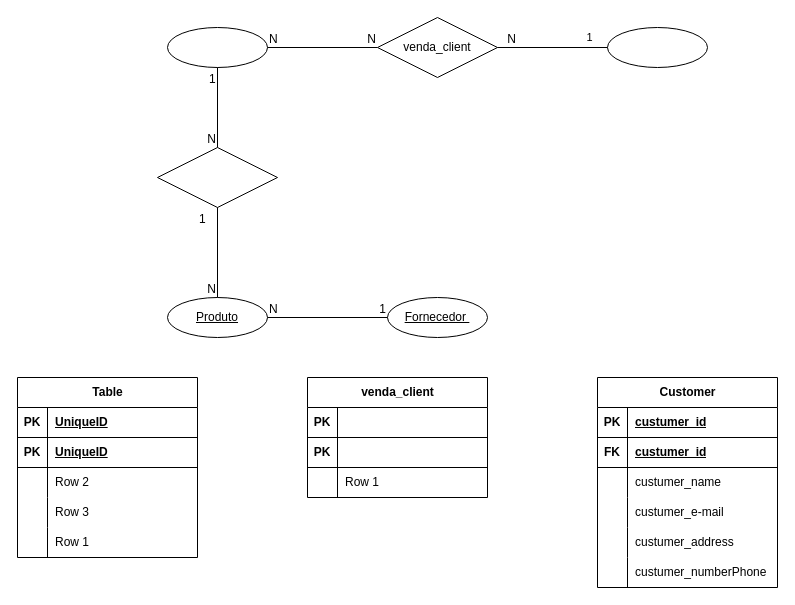
Image size: 795x605. Some labels were removed from this diagram. Each missing label, with the centre of its shape:
"Client" goes at [657,47].
"Venda" goes at [217,47].
"venda_produto" goes at [217,177].
